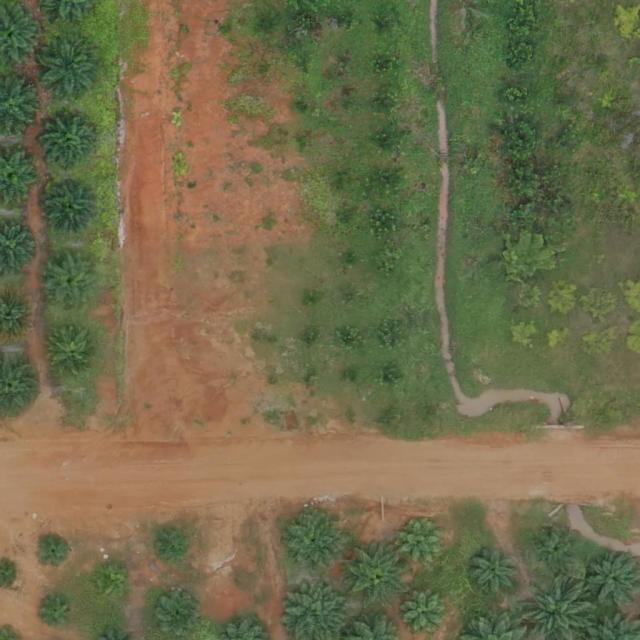Healthy: (284, 511, 347, 574), (345, 543, 408, 606), (38, 35, 100, 98), (468, 546, 523, 602), (44, 118, 99, 173), (44, 258, 99, 313), (48, 327, 103, 382), (45, 179, 99, 234)
Small: (398, 517, 453, 572), (402, 590, 449, 637), (35, 532, 74, 572), (91, 565, 130, 605), (148, 527, 188, 566), (539, 532, 578, 571), (37, 595, 76, 634)
